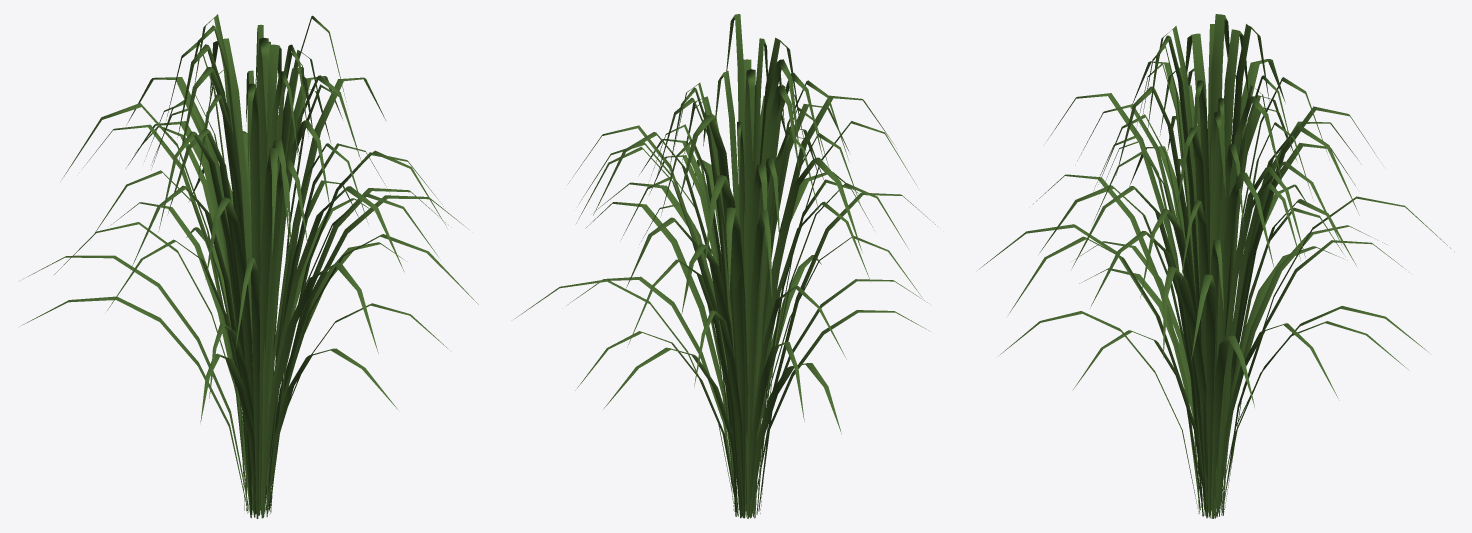
File: ornamental_grass_04.glb
The picture shows the model from 3 angles, left to right: view 1: azimuth 30°, elevation 25°; view 2: azimuth 150°, elevation 25°; view 3: azimuth 270°, elevation 25°; orthographic projection. The views are drawn at different scales.
Parts seen in each view (by area): view 1: ORNAMENTAL_GRASS_04; view 2: ORNAMENTAL_GRASS_04; view 3: ORNAMENTAL_GRASS_04.
Part boxes in pixels (x1,y1,x2,y2): ORNAMENTAL_GRASS_04: (19,14,478,518); ORNAMENTAL_GRASS_04: (515,14,937,518); ORNAMENTAL_GRASS_04: (979,14,1454,518).
Size of the model in its own units: 0.7517 by 0.9999 by 0.8895.
